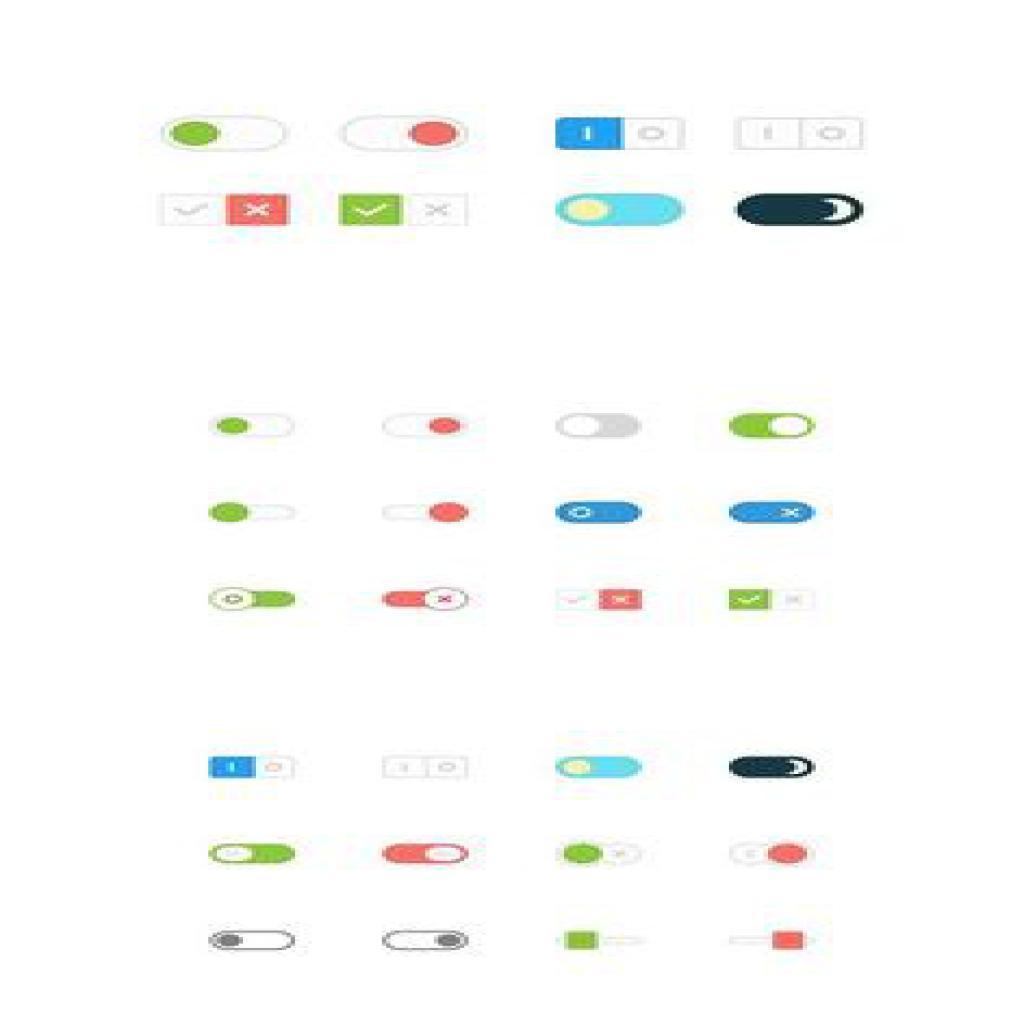switch: (145, 101, 309, 165), (327, 103, 491, 161), (531, 109, 705, 161), (540, 188, 691, 244), (179, 490, 332, 534), (717, 391, 840, 444), (731, 188, 874, 233), (357, 401, 494, 447), (362, 579, 491, 624), (197, 401, 323, 447), (188, 577, 323, 619), (709, 485, 832, 531), (544, 403, 659, 451), (547, 490, 667, 535), (376, 492, 491, 534), (730, 117, 866, 152)
